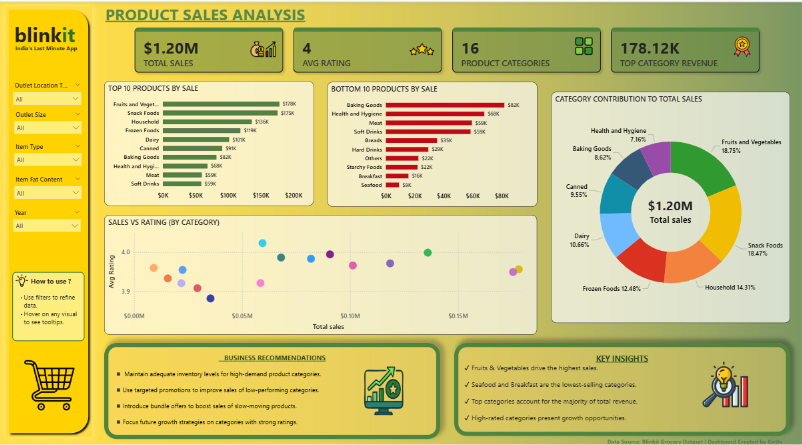

Layout of this report page (visuals, bound fields, positions):
{"tool":"powerbi","page":{"name":"Product analysis","canvas":[1920,1080],"ordinal":1},"visuals":[{"type":"textbox","box":[246.1,0,504.3,60.8],"z":0},{"type":"shape","box":[12.5,11.2,207.5,1028.8],"z":1000},{"type":"textbox","box":[28.8,40,168.8,87.5],"z":2000},{"type":"textbox","box":[25,97.5,172.5,30],"z":3000},{"type":"slicer","fields":{"Values":["Blinkit Grocery Data.Outlet Location Type"]},"box":[21.4,187.1,181.4,68.6],"z":4000},{"type":"slicer","fields":{"Values":["Blinkit Grocery Data.Outlet Size"]},"box":[22.9,255.7,180,65.7],"z":5000},{"type":"slicer","fields":{"Values":["Blinkit Grocery Data.Item Type"]},"box":[22.9,331.4,180,68.6],"z":6000},{"type":"slicer","fields":{"Values":["Blinkit Grocery Data.Item Fat Content"]},"box":[22.9,411.4,180,68.6],"z":7000},{"type":"slicer","fields":{"Values":["Blinkit Grocery Data.Outlet Establishment Year"]},"box":[22.5,490,180,68.8],"z":8000},{"type":"clusteredBarChart","title":"TOP 10 PRODUCTS BY SALE","fields":{"Category":["Blinkit Grocery Data.Item Type"],"Y":["Blinkit Grocery Data.Total sales"]},"box":[248,200,506,300],"z":9000},{"type":"clusteredBarChart","title":"BOTTOM 10 PRODUCTS BY SALE","fields":{"Category":["Blinkit Grocery Data.Item Type"],"Y":["Blinkit Grocery Data.Total sales"]},"box":[785,200.4,496.3,300.6],"z":10000},{"type":"donutChart","title":"CATEGORY CONTRIBUTION TO TOTAL SALES","fields":{"Category":["Blinkit Grocery Data.Item Type"],"Y":["Blinkit Grocery Data.Total sales"]},"box":[1314,200,572,576],"z":11000},{"type":"cardVisual","fields":{"Data":["Blinkit Grocery Data.Total sales"]},"box":[1511.4,442.9,177.1,114.3],"z":12000},{"type":"scatterChart","title":"SALES VS RATING (BY CATEGORY)","fields":{"Category":["Blinkit Grocery Data.Item Type"],"Y":["Blinkit Grocery Data.Avg Rating"],"X":["Blinkit Grocery Data.Total sales"]},"box":[245,525,1035,250],"z":13000},{"type":"textbox","box":[1120,800,770,237],"z":14000},{"type":"textbox","box":[247.5,800,840,237],"z":15000},{"type":"image","box":[865,865,127.5,145],"z":16000},{"type":"cardVisual","fields":{"Data":["Blinkit Grocery Data.Total sales","Blinkit Grocery Data.Avg Rating","Count(Blinkit Grocery Data.Item Type)","Blinkit Grocery Data.Top Category Sales"]},"box":[303,45.3,1527,143.2],"z":17000},{"type":"image","box":[1682.5,865,127.5,127.5],"z":18000},{"type":"textbox","box":[1445.6,1036.7,444.4,34.4],"z":19000},{"type":"image","box":[0,852.5,235,130],"z":20000},{"type":"textbox","box":[27.5,646.2,172.5,165],"z":21000},{"type":"image","box":[28.6,645.7,45.7,40],"z":22000}]}

Visuals, with their boxes in screenshot pixels (x1, y1, x2, y2), scaled from the page's 1920x1080 canvas onto the 802x445 screenshot:
textbox: bbox(103, 0, 313, 25)
shape: bbox(5, 5, 92, 429)
textbox: bbox(12, 16, 83, 53)
textbox: bbox(10, 40, 82, 53)
slicer - Blinkit Grocery Data.Outlet Location Type: bbox(9, 77, 85, 105)
slicer - Blinkit Grocery Data.Outlet Size: bbox(10, 105, 85, 132)
slicer - Blinkit Grocery Data.Item Type: bbox(10, 137, 85, 165)
slicer - Blinkit Grocery Data.Item Fat Content: bbox(10, 170, 85, 198)
slicer - Blinkit Grocery Data.Outlet Establishment Year: bbox(9, 202, 85, 230)
"TOP 10 PRODUCTS BY SALE" clusteredBarChart: bbox(104, 82, 315, 206)
"BOTTOM 10 PRODUCTS BY SALE" clusteredBarChart: bbox(328, 83, 535, 206)
"CATEGORY CONTRIBUTION TO TOTAL SALES" donutChart: bbox(549, 82, 788, 320)
cardVisual - Blinkit Grocery Data.Total sales: bbox(631, 182, 705, 230)
"SALES VS RATING (BY CATEGORY)" scatterChart: bbox(102, 216, 535, 319)
textbox: bbox(468, 330, 789, 427)
textbox: bbox(103, 330, 454, 427)
image: bbox(361, 356, 415, 416)
cardVisual - Blinkit Grocery Data.Total sales x Blinkit Grocery Data.Avg Rating: bbox(127, 19, 764, 78)
image: bbox(703, 356, 756, 409)
textbox: bbox(604, 427, 789, 441)
image: bbox(0, 351, 98, 405)
textbox: bbox(11, 266, 84, 334)
image: bbox(12, 266, 31, 283)
